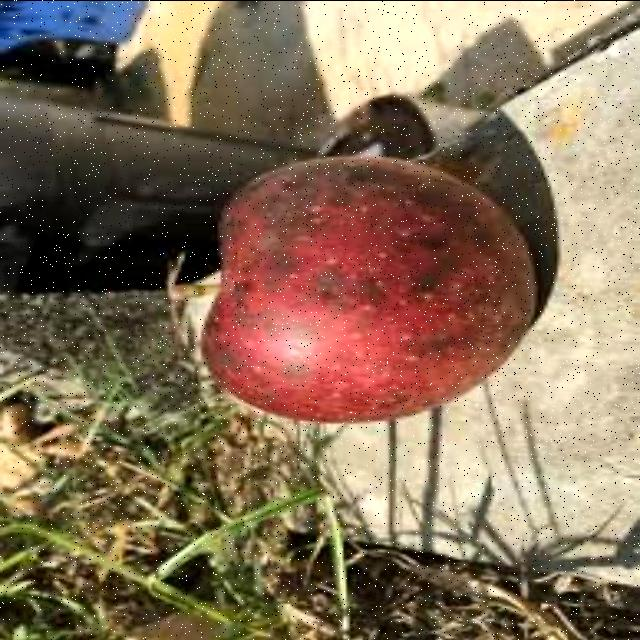BLOTCH: (152, 112, 556, 441)
